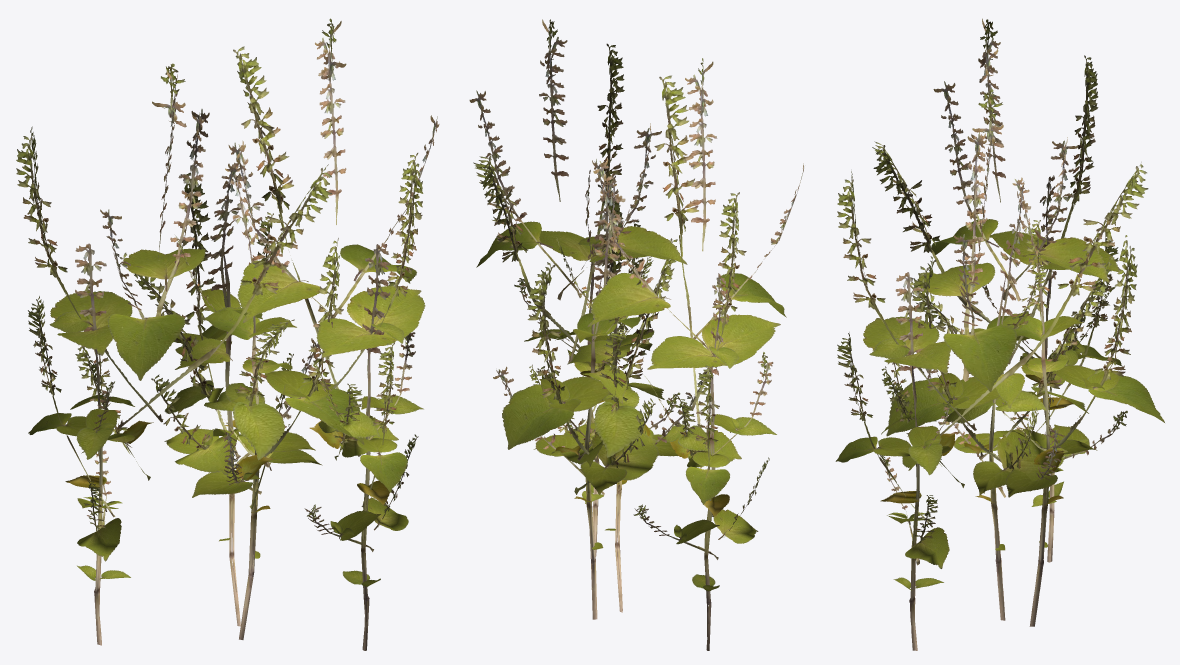
Rendered from veg-shrub-garden-7e60bdee2f05.glb.
3 views of the same model, side by side, from view 1: azimuth 30°, elevation 25°; view 2: azimuth 150°, elevation 25°; view 3: azimuth 270°, elevation 25° (orthographic). The views are drawn at different scales.
Parts seen in each view (by area): view 1: veg-shrub-garden; view 2: veg-shrub-garden; view 3: veg-shrub-garden.
Boxes of the visible parts, x1,y1,x2,y2 form: veg-shrub-garden: (16, 18, 439, 650); veg-shrub-garden: (469, 19, 803, 650); veg-shrub-garden: (835, 18, 1164, 650).
Size of the model in its own units: 0.411 by 0.68 by 0.3551.
Materials: 1 (1 with a texture image).
